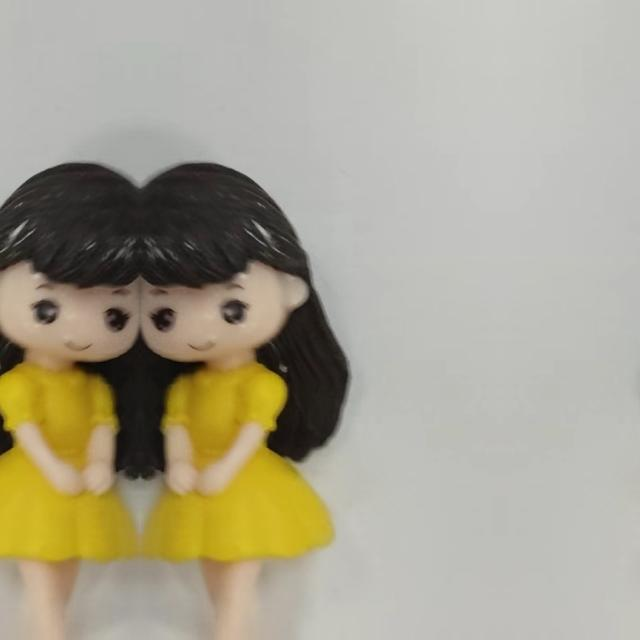woman dress: (140, 376, 334, 640), (0, 376, 140, 639)
